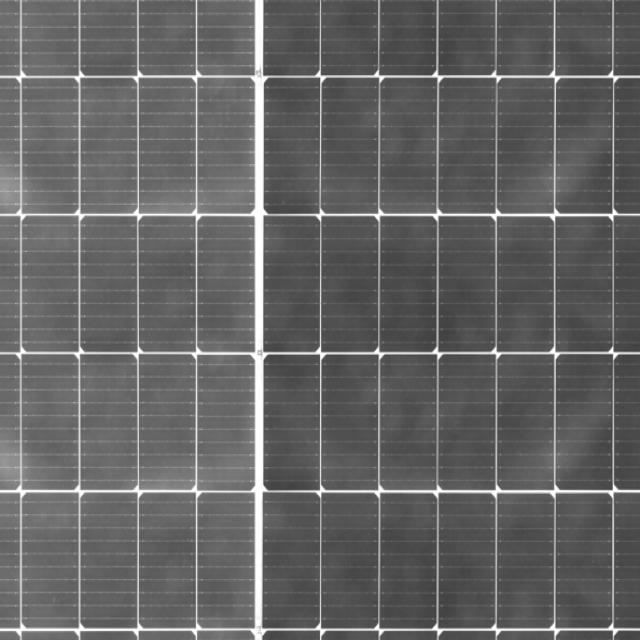CORRECT: (232, 18, 635, 632), (3, 4, 309, 640)
